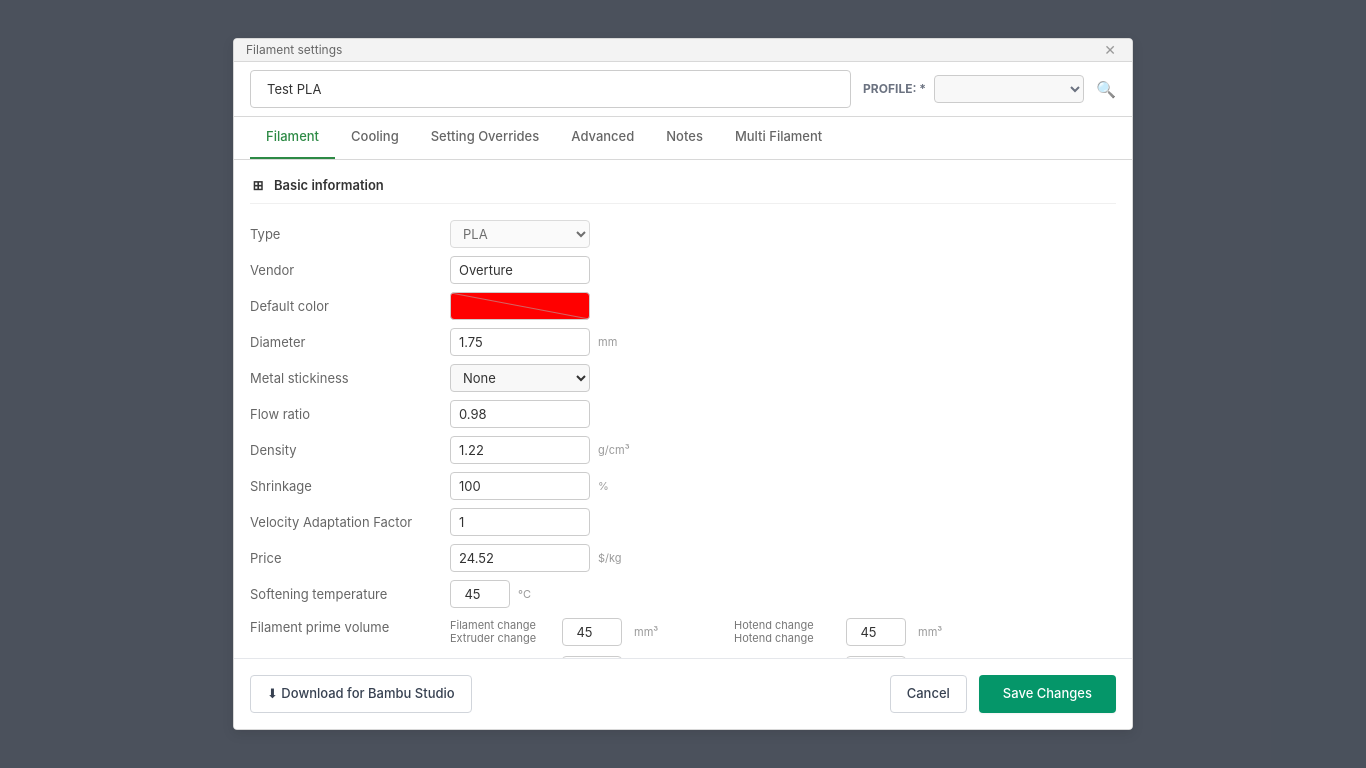
Test case: EditorModal — filament type › Notes tab shows a textarea
Click the text with class "tab" showing "Notes" at (685, 136), box [666,128,703,144]
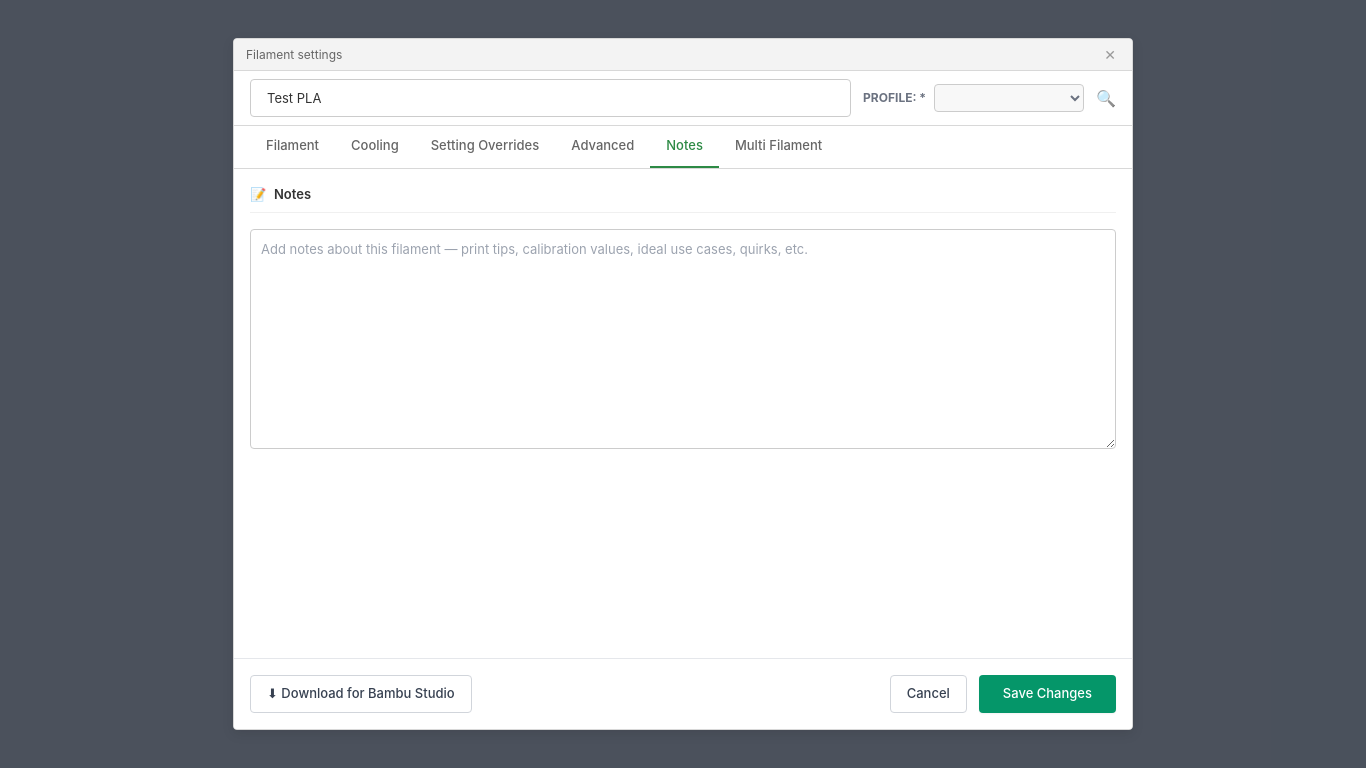
Expected: the text box with class "notes-area" is shown, [250,229,1116,449]
